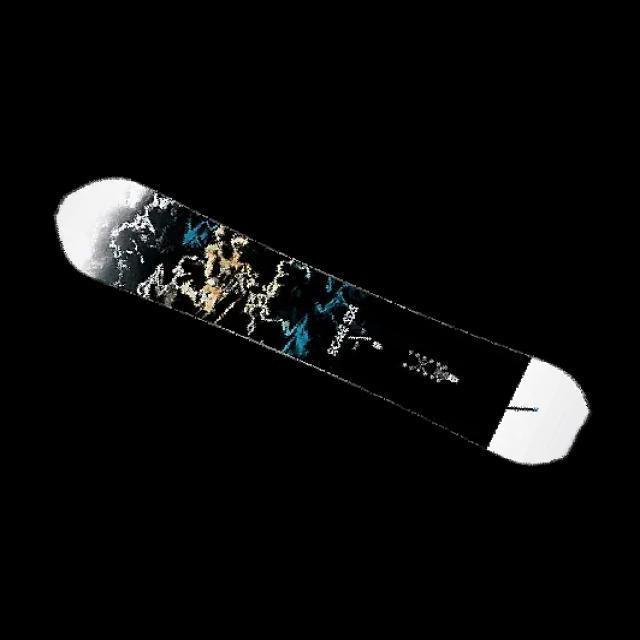Snowboard: (53, 174, 591, 467)
